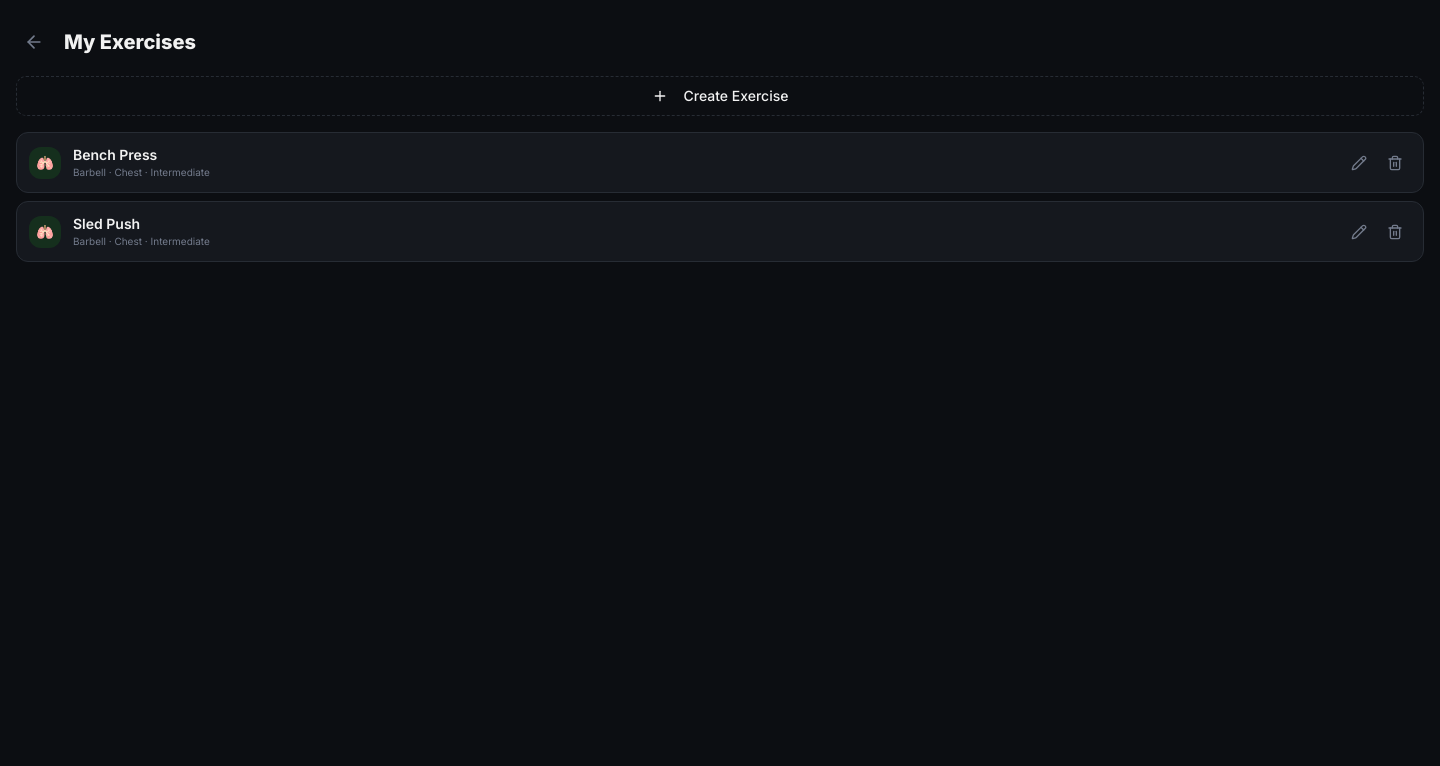
Test case: editing a custom exercise › does not scroll once the editor is closed
Step 1. Click the button named "Edit Sled Push" → (1359, 232), box [1343,216,1375,248]
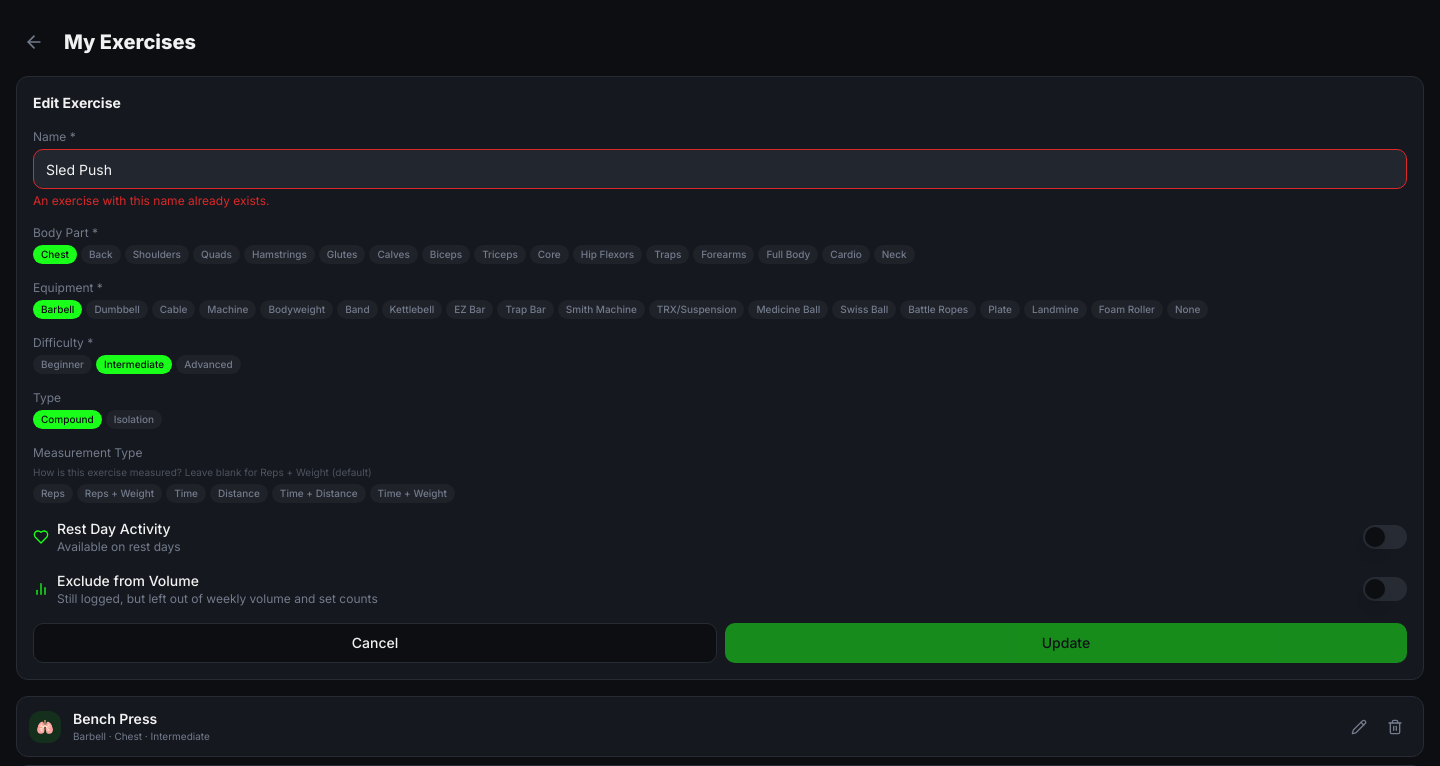
Step 2. Click the button "Cancel" → (375, 643), box [33,623,717,663]
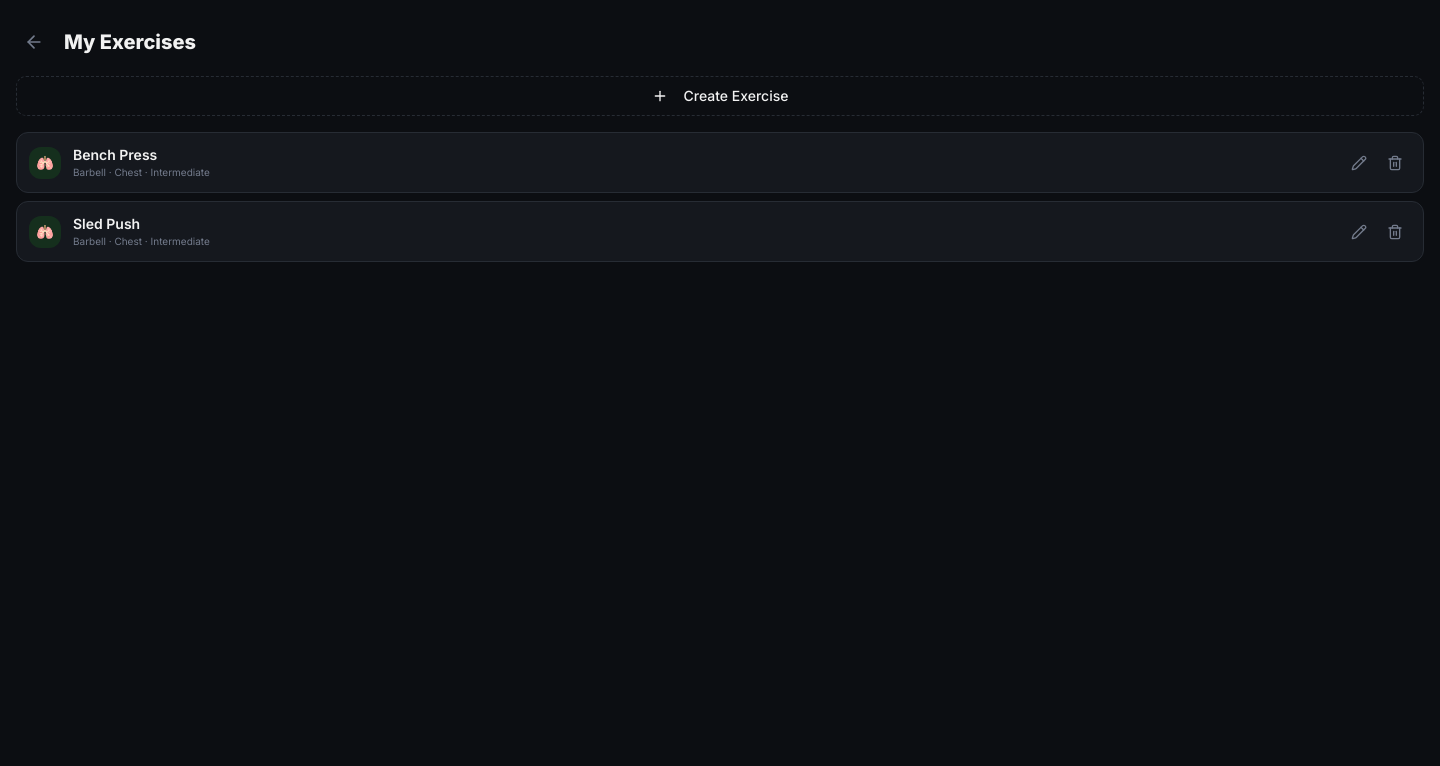
Result: the element with test id "custom-exercise-form" is gone
